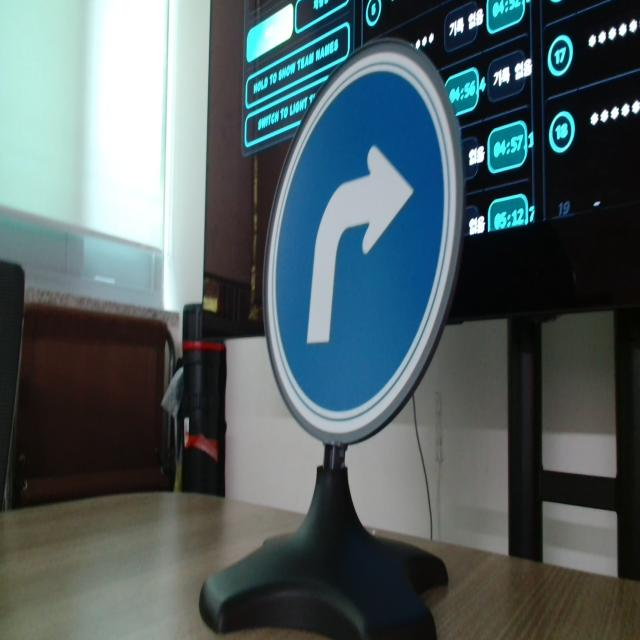right_dierection: (266, 31, 458, 447)
